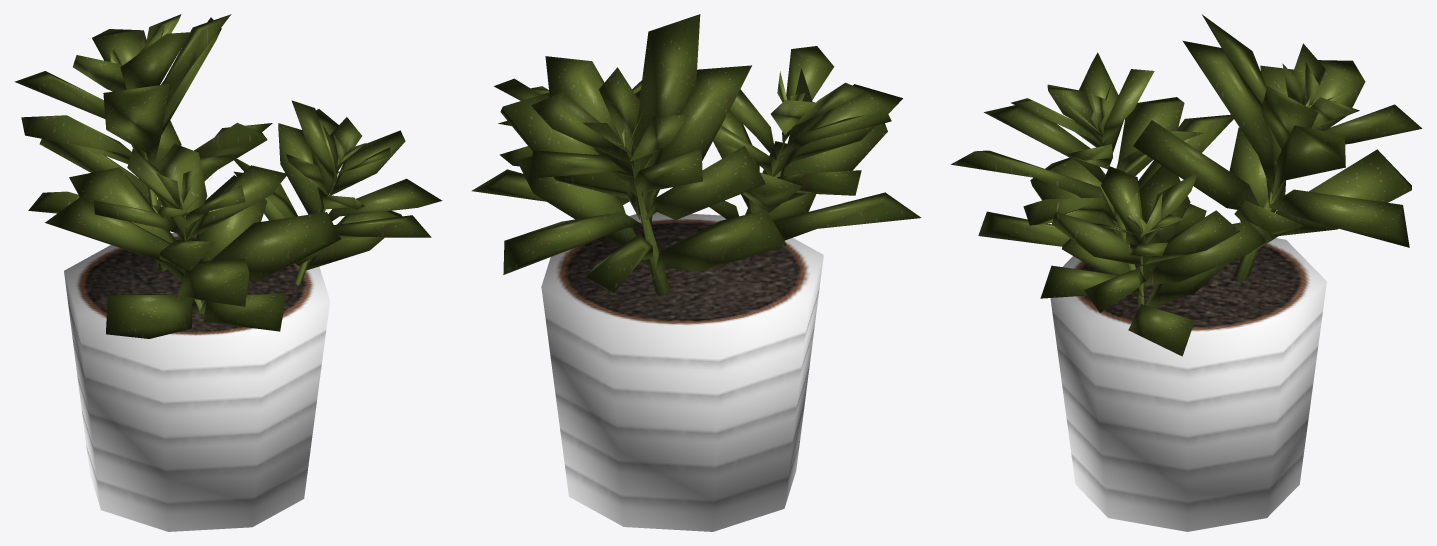
The picture shows the model from 3 angles, left to right: view 1: azimuth 30°, elevation 25°; view 2: azimuth 150°, elevation 25°; view 3: azimuth 270°, elevation 25°; orthographic projection. The views are drawn at different scales.
Parts seen in each view (by area): view 1: plant, pot; view 2: pot, plant; view 3: plant, pot.
Boxes of the visible parts, x1,y1,x2,y2 form: plant: [14, 14, 442, 338]; pot: [64, 233, 329, 531]; pot: [541, 212, 823, 531]; plant: [472, 14, 921, 296]; plant: [951, 14, 1422, 356]; pot: [1050, 238, 1326, 531].
Bounding box in the file's own units: 0.1703 × 0.2047 × 0.191.
1 material, 1 textured.
